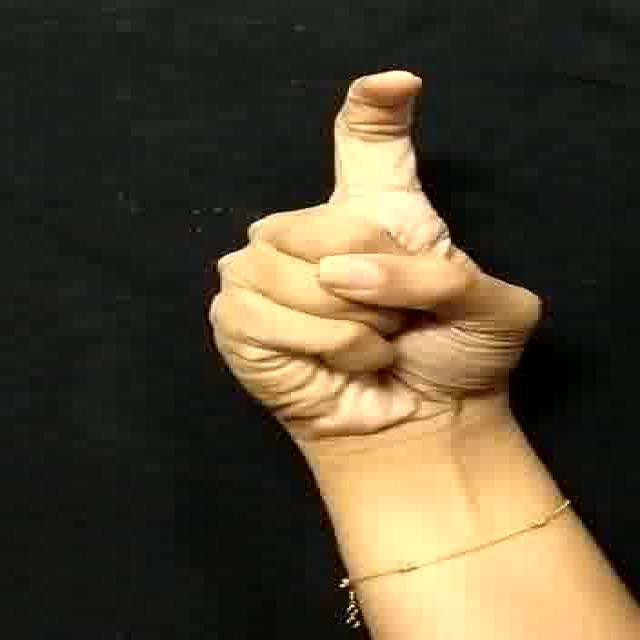ardhpataka: (183, 62, 573, 442)
